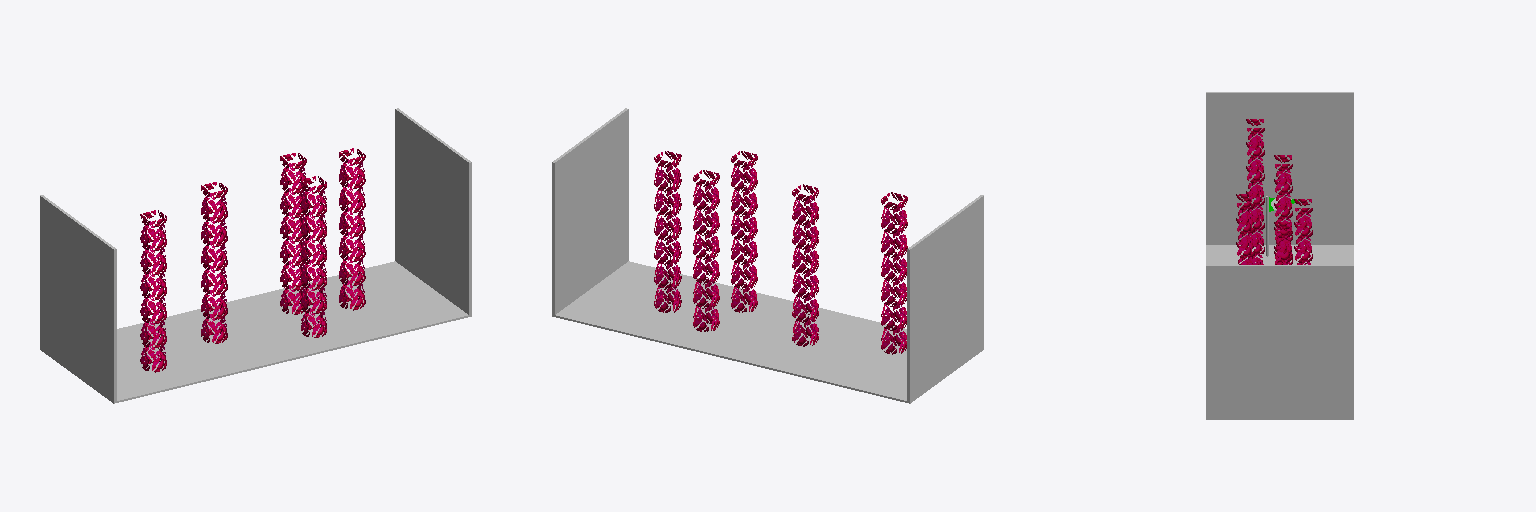
3 renders of one model, left to right at view 1: azimuth 30°, elevation 25°; view 2: azimuth 150°, elevation 25°; view 3: azimuth 270°, elevation 25°, orthographic.
Visible parts, largest first — view 1: Cube, Cube.003_Cube.002, Cube.002_Cube.001, Cube.007, Cube.004, Cube.008, Cube.005, Cube.006; view 2: Cube, Cube.003_Cube.002, Cube.002_Cube.001, Cube.004, Cube.006, Cube.007, Cube.005, Cube.008; view 3: Cube.002_Cube.001, Cube.003_Cube.002, Cube, Cube.008, Cube.007, Cube.005, Cube.006, Cube.004.
Part boxes in pixels (bbox=[...]): Cube: bbox=[114, 261, 468, 403]; Cube.003_Cube.002: bbox=[40, 195, 116, 403]; Cube.002_Cube.001: bbox=[395, 108, 471, 316]; Cube.007: bbox=[201, 182, 227, 343]; Cube.004: bbox=[339, 148, 365, 310]; Cube.008: bbox=[140, 210, 166, 372]; Cube.005: bbox=[301, 176, 326, 337]; Cube.006: bbox=[280, 153, 306, 314]; Cube: bbox=[555, 261, 909, 403]; Cube.003_Cube.002: bbox=[907, 195, 983, 403]; Cube.002_Cube.001: bbox=[552, 108, 628, 316]; Cube.004: bbox=[654, 151, 681, 312]; Cube.006: bbox=[693, 170, 719, 331]; Cube.007: bbox=[792, 184, 818, 346]; Cube.005: bbox=[731, 151, 757, 312]; Cube.008: bbox=[881, 192, 907, 354]; Cube.002_Cube.001: bbox=[1206, 265, 1353, 419]; Cube.003_Cube.002: bbox=[1206, 92, 1353, 244]; Cube: bbox=[1206, 245, 1353, 264]; Cube.008: bbox=[1246, 119, 1264, 264]; Cube.007: bbox=[1274, 155, 1292, 264]; Cube.005: bbox=[1236, 194, 1254, 264]; Cube.006: bbox=[1294, 199, 1312, 264]; Cube.004: bbox=[1274, 222, 1292, 264].
Size of the model in its own units: 76.55 by 31.49 by 27.38.
10 materials, 3 textured.